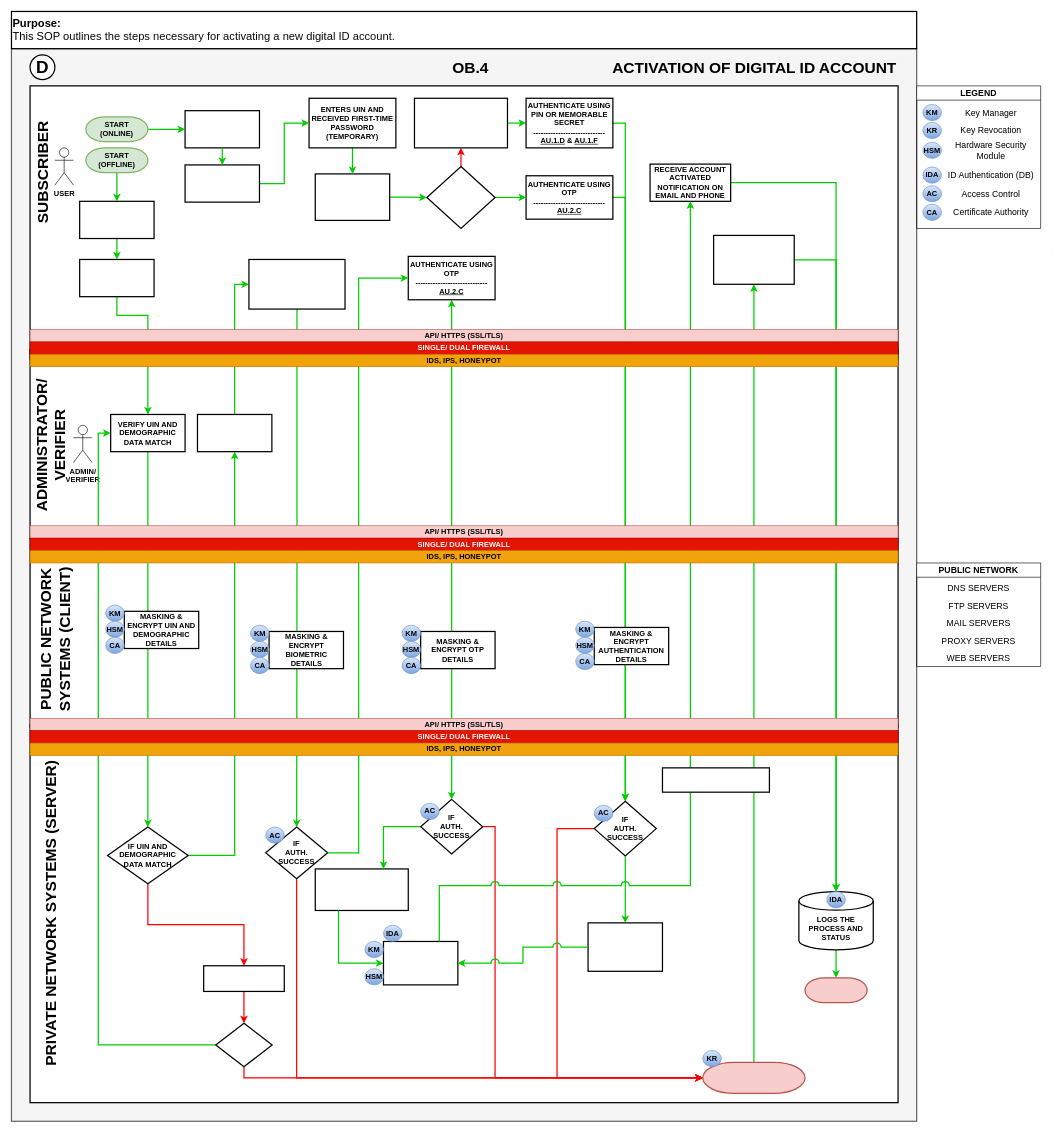
The diagram is 1052 pixels wide and 1132 high, and some of its shapes have lost their labels. The shapes that lost their labels are listed below. From the top down, each one's centre as x and y in pixels, then its label:
At (222,129): "RECEIVES DID AND LETTER WITH ACCOUNT DETAILS".
At (461,122): "SET UP PIN OR MEMORABLE SECRET ----------------------------- AU.1.C & AU.1.E".
At (222,183): "VISIT DID PORTAL".
At (352,197): "CREATION OF STRONG PASSWORD ----------------------------- AU.1.A".
At (460,197): "IF MAIL/ PHONE PROVIDED".
At (116,219): "VISIT DID ENROLMENT/ THIRD PARTY CENTRE".
At (116,278): "PROVIDE UIN AND DEMOGRAPHIC DETAILS".
At (754,259): "RECEIVE ACCOUNT ACTIVATION UNSUCCESSFUL NOTIFICATION ON EMAIL AND PHONE".
At (296,284): "AUTHENTICATE USING (ONE): FINGERPRINT: AU.3.B IRIS: AU.3.C FACIAL: AU.3.D".
At (234,433): "REQUEST BIOMETRIC AUTHENTICATION".
At (716,779): "NOTIFICATION GENERATOR".
At (361,889): "ACTIVATE DID ACCOUNT AND AVAILABLE AUTHENTICATORS FOR OFFLINE AUTH.".
At (420,963): "STORE AUTHENTICATOR STATUS IN UIN ACCOUNT".
At (625,947): "ACTIVATE DID ACCOUNT AND AVAILABLE AUTHENTICATORS FOR ONLINE AUTH.".
At (244,978): "EXCEPTION AND ERROR HANDLING (COUNTER)".
At (835,990): "END".
At (243,1044): "IF RETRY COUNT<=3".
At (753,1077): "TERMINATE PROCESS: ERROR MESSAGE".
